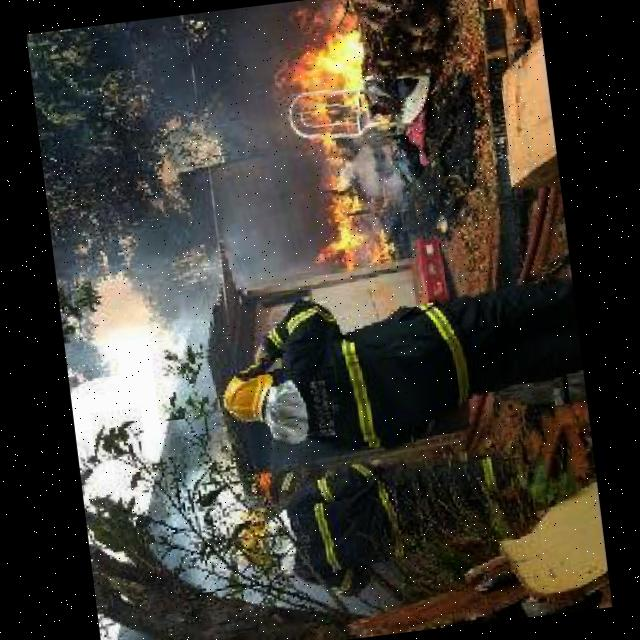fire: (260, 0, 398, 161), (298, 155, 398, 278), (339, 122, 421, 204)
